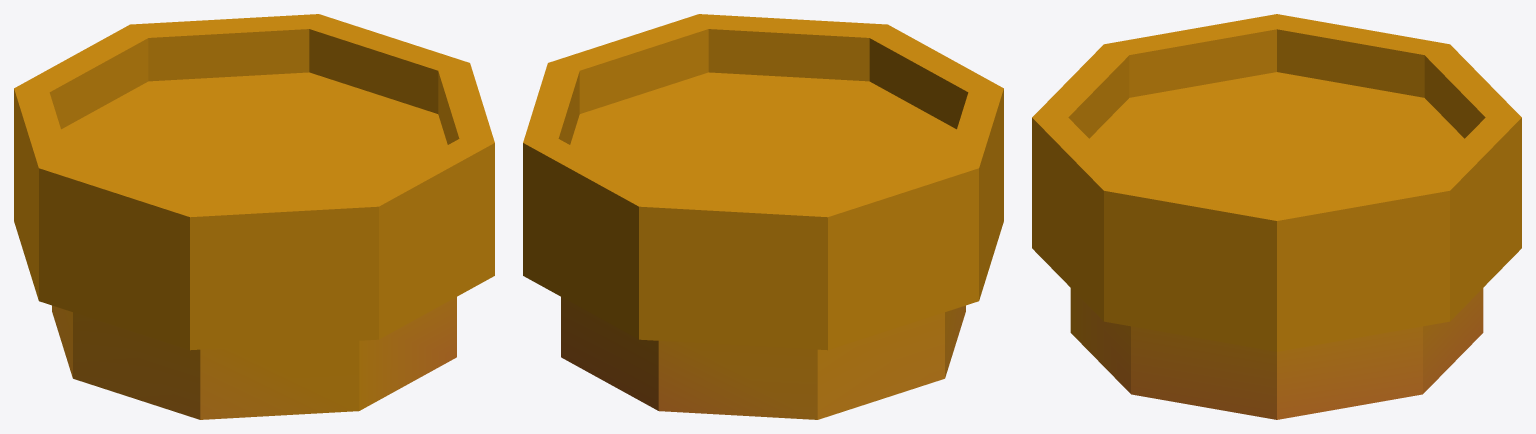
File: FanBottom.glb
The picture shows the model from 3 angles, left to right: view 1: azimuth 30°, elevation 25°; view 2: azimuth 150°, elevation 25°; view 3: azimuth 270°, elevation 25°; orthographic projection.
Visible parts, largest first — view 1: FanBody; view 2: FanBody; view 3: FanBody.
Part boxes in pixels (bbox=[...]): FanBody: bbox=[14, 14, 494, 419]; FanBody: bbox=[523, 14, 1003, 419]; FanBody: bbox=[1032, 14, 1521, 419].
Size of the model in its own units: 2.37 by 1.15 by 2.37.
